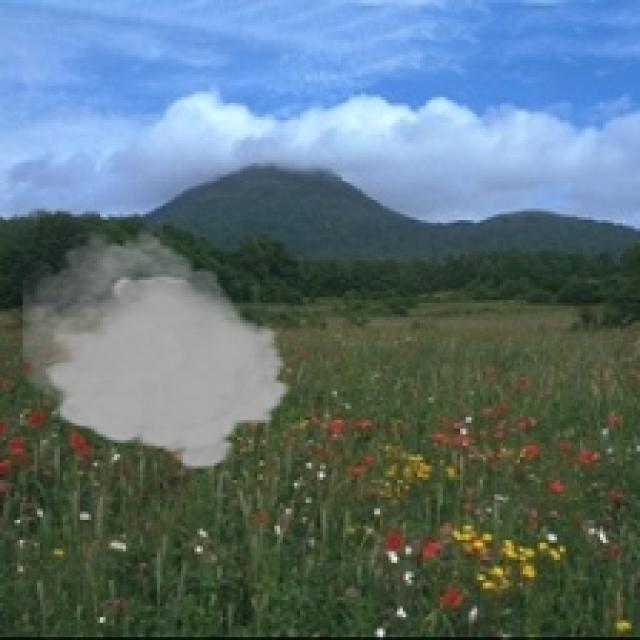Smoke: (22, 223, 294, 471)
